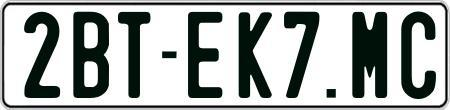2: (22, 10, 59, 98)
7: (284, 11, 322, 101)
B: (71, 11, 111, 101)
C: (398, 9, 434, 101)
E: (185, 12, 223, 99)
K: (239, 11, 273, 102)
M: (352, 10, 389, 98)
T: (115, 11, 150, 102)
